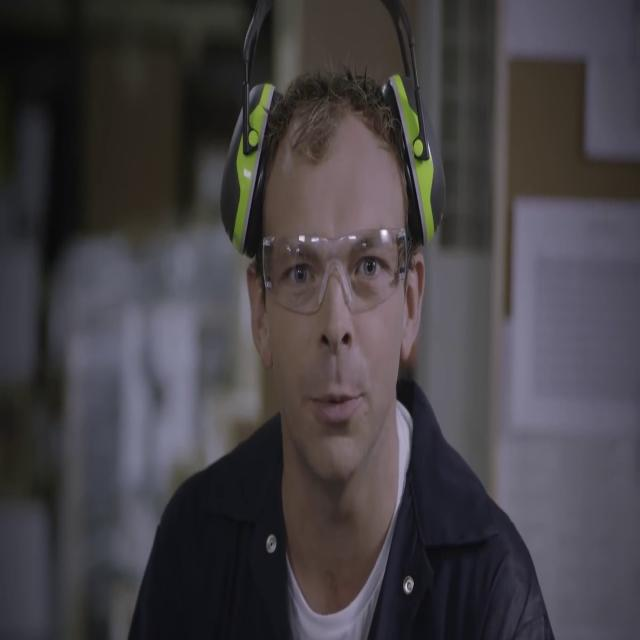earmuff: (218, 80, 288, 261), (379, 69, 452, 240)
glasses: (259, 229, 411, 319)
